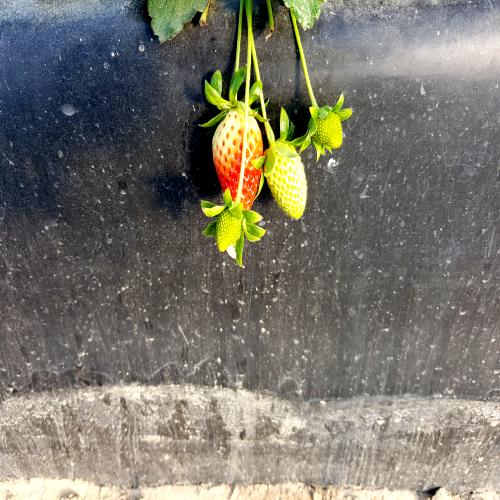partially-ripe: (210, 104, 269, 219)
unripe: (265, 135, 312, 228)
